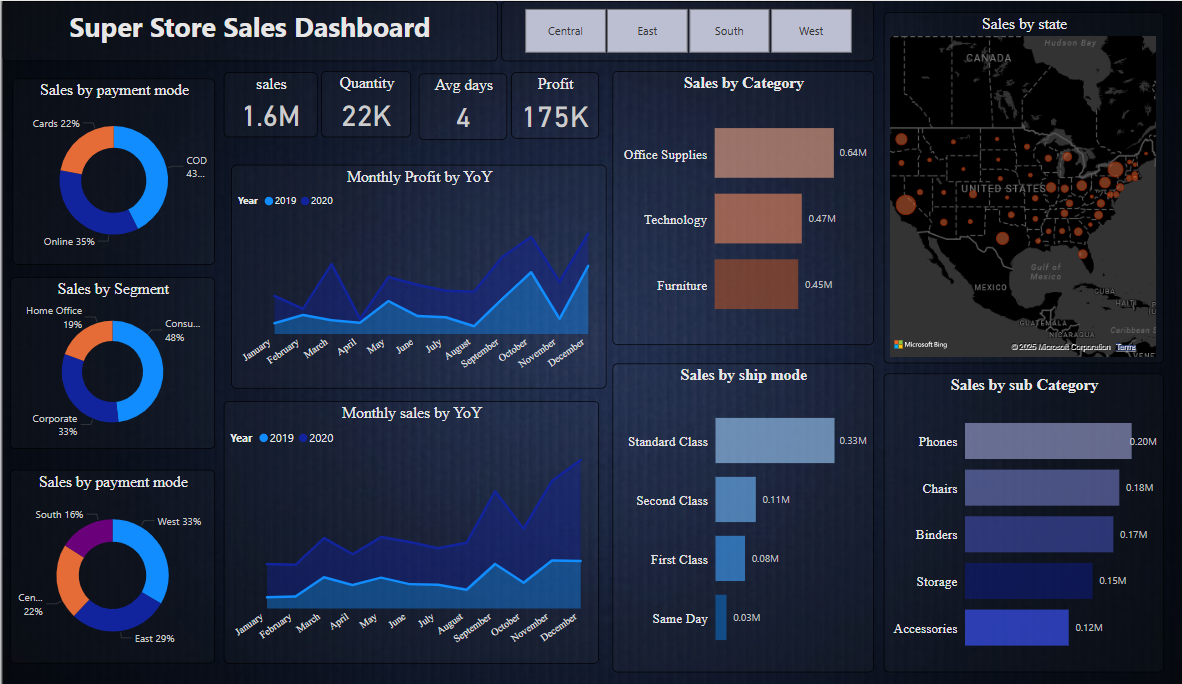

This screenshot's page, from the dashboard's own definition file:
{"tool":"powerbi","page":{"name":"Page 1","canvas":[1500,820],"ordinal":0},"visuals":[{"type":"clusteredBarChart","title":"Sales by Category","fields":{"Category":["SuperStore_Sales_Dataset.Category"],"Y":["Sum(SuperStore_Sales_Dataset.Sales)"]},"box":[773.1,83.6,311.9,326.9],"z":0},{"type":"clusteredBarChart","title":"Sales by sub Category","fields":{"Category":["SuperStore_Sales_Dataset.Sub-Category"],"Y":["Sum(SuperStore_Sales_Dataset.Sales)"]},"box":[1097,444.8,334.3,356.7],"z":1000},{"type":"clusteredBarChart","title":"Sales by ship mode","fields":{"Category":["SuperStore_Sales_Dataset.Ship Mode"],"Y":["Sum(SuperStore_Sales_Dataset.Sales)"]},"box":[773.1,432.8,311.9,368.7],"z":2000},{"type":"stackedAreaChart","title":"Monthly sales by YoY","fields":{"Y":["Sum(SuperStore_Sales_Dataset.Sales)"],"Series":["SuperStore_Sales_Dataset.Order Date.Variation.Date Hierarchy.Year"],"Category":["SuperStore_Sales_Dataset.Order Date.Variation.Date Hierarchy.Month"]},"box":[309,477.6,447.8,313.4],"z":3000},{"type":"map","title":"Sales by state","fields":{"Category":["SuperStore_Sales_Dataset.State"],"Size":["Sum(SuperStore_Sales_Dataset.Sales)"]},"box":[1097,13.4,334.3,419.4],"z":4000},{"type":"stackedAreaChart","title":"Monthly Profit by YoY","fields":{"Series":["SuperStore_Sales_Dataset.Order Date.Variation.Date Hierarchy.Year"],"Category":["SuperStore_Sales_Dataset.Order Date.Variation.Date Hierarchy.Month"],"Y":["Sum(SuperStore_Sales_Dataset.Profit)"]},"box":[317.9,195.5,447.8,267.2],"z":5000},{"type":"donutChart","title":"Sales by Segment","fields":{"Category":["SuperStore_Sales_Dataset.Segment"],"Y":["Sum(SuperStore_Sales_Dataset.Sales)"]},"box":[53.7,329.9,244.8,204.5],"z":6000},{"type":"donutChart","title":"Sales by payment mode","fields":{"Category":["SuperStore_Sales_Dataset.Payment Mode"],"Y":["Sum(SuperStore_Sales_Dataset.Sales)"]},"box":[56.7,92.5,241.8,222.4],"z":7000},{"type":"slicer","title":"Selection on region","fields":{"Values":["SuperStore_Sales_Dataset.Region"]},"box":[640.3,0,444.8,71.6],"z":8000},{"type":"textbox","box":[44.8,0,591,71.6],"z":9000},{"type":"card","title":"sales","fields":{"Values":["Sum(SuperStore_Sales_Dataset.Sales)"]},"box":[309,85.1,111.9,77.6],"z":10000},{"type":"card","title":"Avg days","fields":{"Values":["Avg(SuperStore_Sales_Dataset.avgdelivery)"]},"box":[541.8,86.6,106,79.1],"z":11000},{"type":"card","title":"Quantity","fields":{"Values":["Sum(SuperStore_Sales_Dataset.Quantity)"]},"box":[425.4,83.6,107.5,79.1],"z":12000},{"type":"card","title":"Profit","fields":{"Values":["Sum(SuperStore_Sales_Dataset.Profit)"]},"box":[652.2,85.1,104.5,79.1],"z":13000},{"type":"donutChart","title":"Sales by payment mode","fields":{"Y":["Sum(SuperStore_Sales_Dataset.Sales)"],"Category":["SuperStore_Sales_Dataset.Region"]},"box":[53.7,559.7,244.8,231.3],"z":14000}]}

Visuals, with their boxes on the page's 1500x820 design canvas (x1, y1, x2, y2). These are canvas units, not pixel positions in the 1182x684 screenshot, which may show the page scaled, cropped or inside an application window:
"Sales by Category" clusteredBarChart: [773, 84, 1085, 410]
"Sales by sub Category" clusteredBarChart: [1097, 445, 1431, 802]
"Sales by ship mode" clusteredBarChart: [773, 433, 1085, 802]
"Monthly sales by YoY" stackedAreaChart: [309, 478, 757, 791]
"Sales by state" map: [1097, 13, 1431, 433]
"Monthly Profit by YoY" stackedAreaChart: [318, 196, 766, 463]
"Sales by Segment" donutChart: [54, 330, 298, 534]
"Sales by payment mode" donutChart: [57, 92, 298, 315]
"Selection on region" slicer: [640, 0, 1085, 72]
textbox: [45, 0, 636, 72]
"sales" card: [309, 85, 421, 163]
"Avg days" card: [542, 87, 648, 166]
"Quantity" card: [425, 84, 533, 163]
"Profit" card: [652, 85, 757, 164]
"Sales by payment mode" donutChart: [54, 560, 298, 791]
